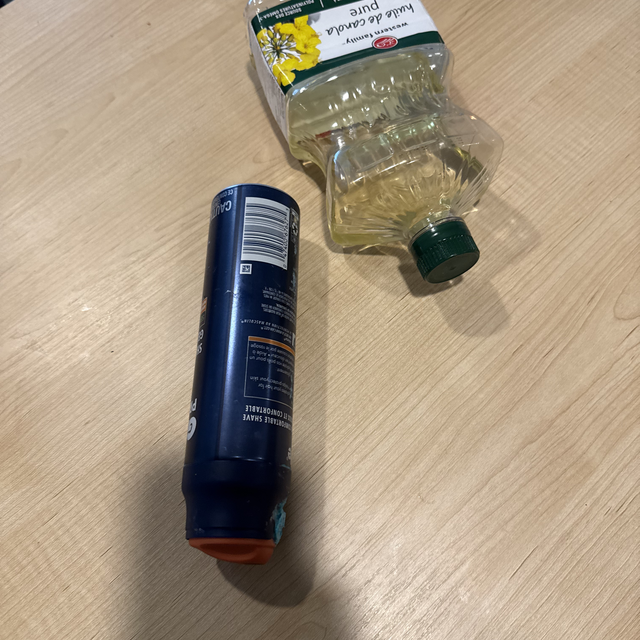Aerosol: (185, 188, 318, 570)
Canola Oil: (261, 4, 543, 278)
